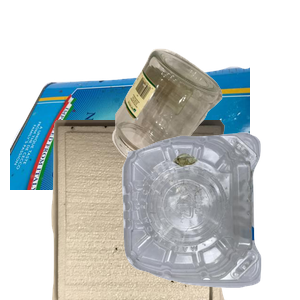glass: (110, 46, 300, 205)
metal: (10, 64, 250, 244)
plastic: (119, 130, 300, 300)
trash: (49, 120, 269, 300)
